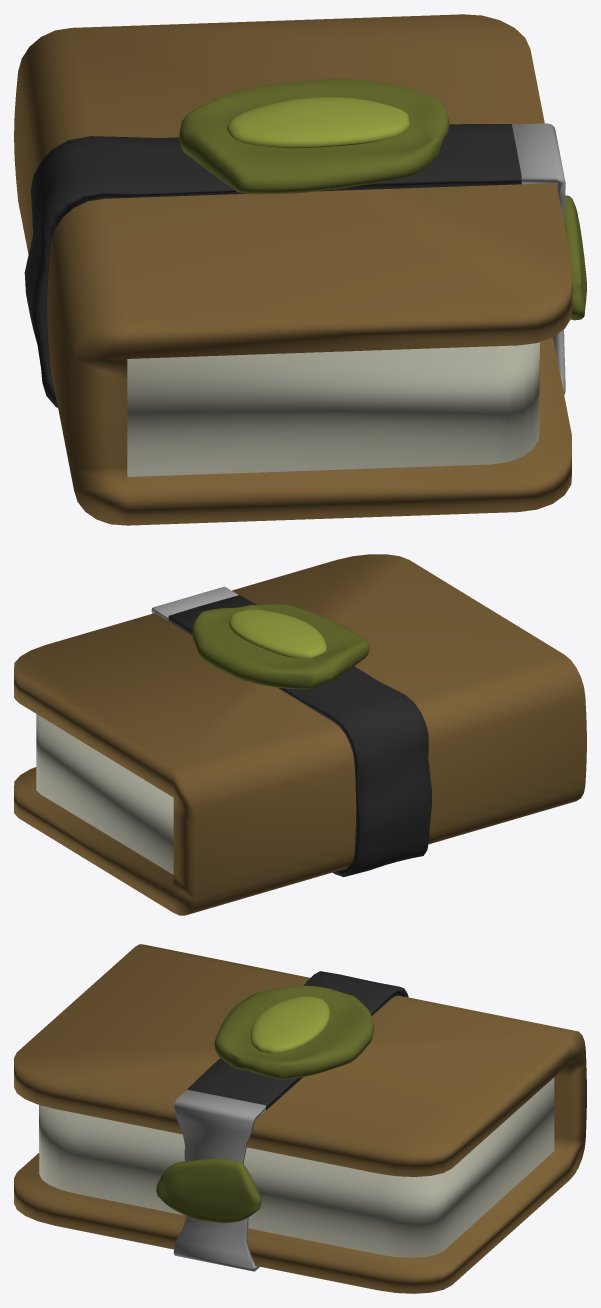
File: kitapkahve.fbx
The picture shows the model from 3 angles, top to bottom: view 1: azimuth 30°, elevation 25°; view 2: azimuth 150°, elevation 25°; view 3: azimuth 270°, elevation 25°; orthographic projection. The views are drawn at different scales.
Parts seen in each view (by area): view 1: Cube.176; view 2: Cube.176; view 3: Cube.176.
Part boxes in pixels (box(x1,y1,x2,y2)): Cube.176: box(14, 14, 586, 525); Cube.176: box(14, 554, 586, 915); Cube.176: box(14, 944, 586, 1293).
Bounding box in the file's own units: 32.26 × 13.09 × 36.14.
